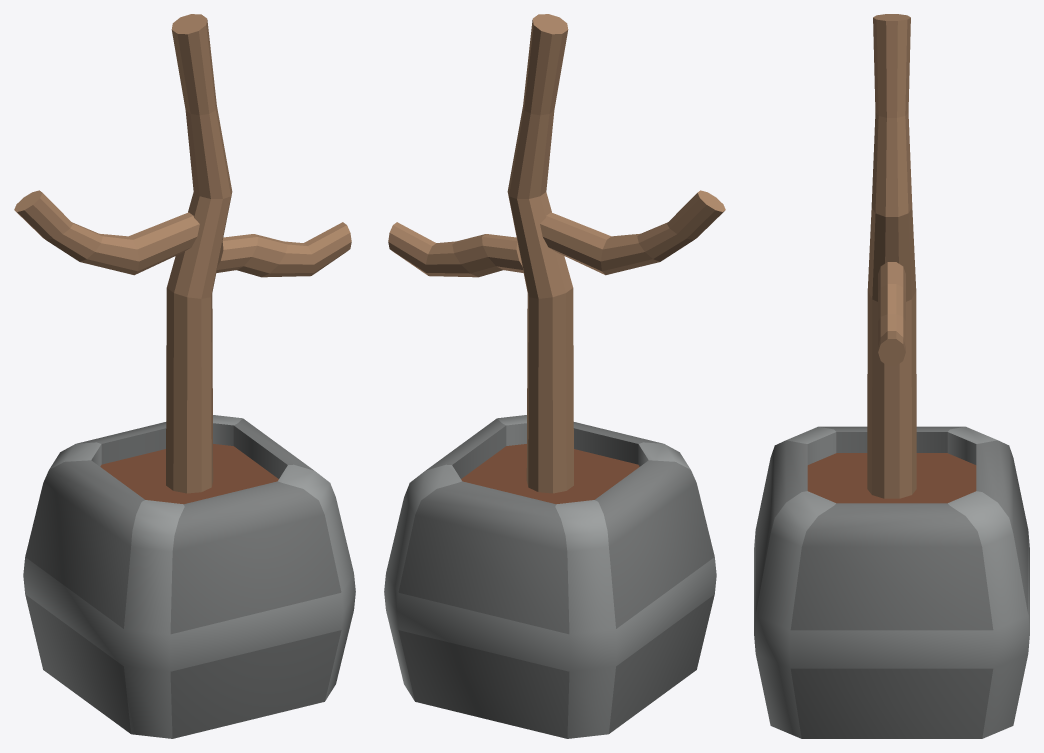
File: Flower-3.fbx
3 renders of one model, left to right at view 1: azimuth 30°, elevation 25°; view 2: azimuth 150°, elevation 25°; view 3: azimuth 270°, elevation 25°, orthographic. The views are drawn at different scales.
Visible parts, largest first — view 1: Flower-3; view 2: Flower-3; view 3: Flower-3.
Boxes of the visible parts, bbox=[...] form: Flower-3: bbox=[14, 14, 355, 738]; Flower-3: bbox=[384, 14, 725, 738]; Flower-3: bbox=[754, 14, 1029, 738].
Size of the model in its own units: 0.2366 by 0.4509 by 0.1672.
